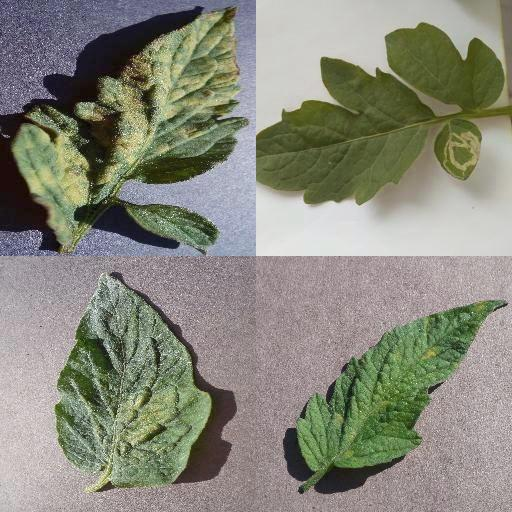Healthy: (256, 56, 436, 207), (386, 21, 506, 111)
Leaf Miner: (433, 120, 483, 182)
Leaf Mold: (12, 5, 248, 256), (296, 298, 508, 470)
Spider Mites: (56, 271, 212, 487)
